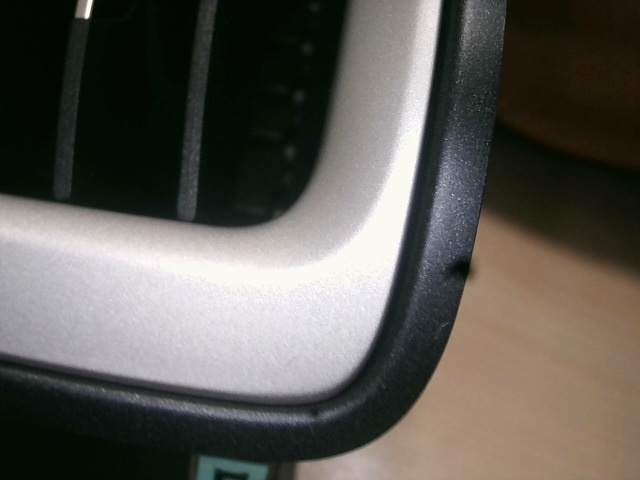NG: (274, 347, 306, 370), (431, 318, 454, 340)
